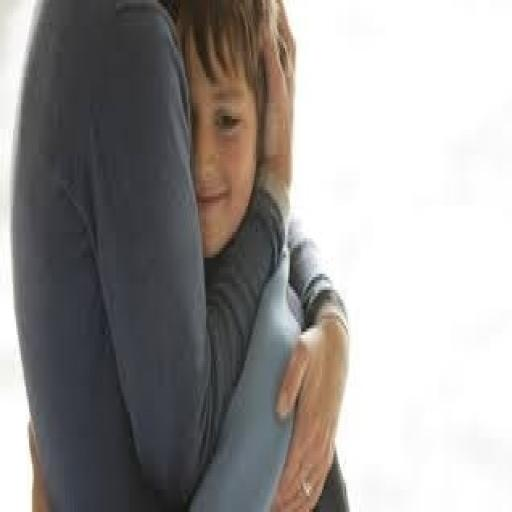hugging: (8, 0, 353, 509)
